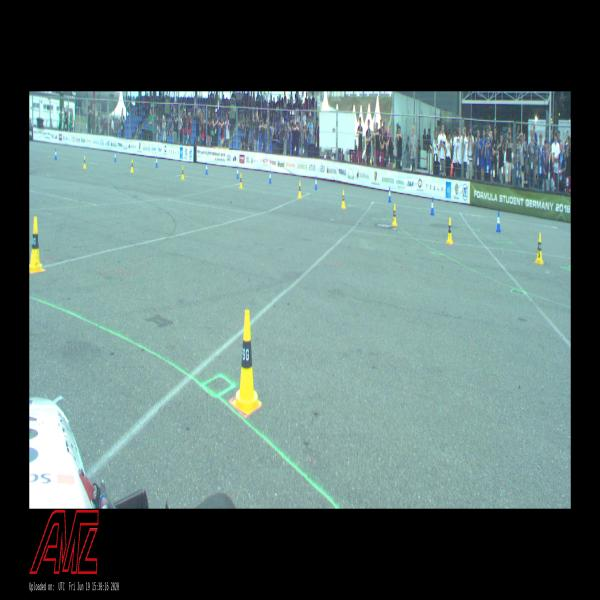blue_cone: (496, 210, 501, 232), (430, 198, 434, 214), (314, 176, 318, 190), (388, 187, 391, 202), (236, 166, 239, 179), (205, 162, 208, 174), (54, 149, 57, 160), (269, 170, 271, 183), (114, 151, 116, 162), (156, 156, 157, 167)
yellow_cone: (236, 310, 258, 408), (30, 217, 42, 271), (535, 233, 544, 263), (446, 217, 453, 244), (392, 204, 397, 225), (342, 190, 346, 208), (239, 173, 243, 188), (298, 181, 301, 198), (181, 166, 184, 180), (131, 159, 134, 172), (83, 156, 86, 169)
